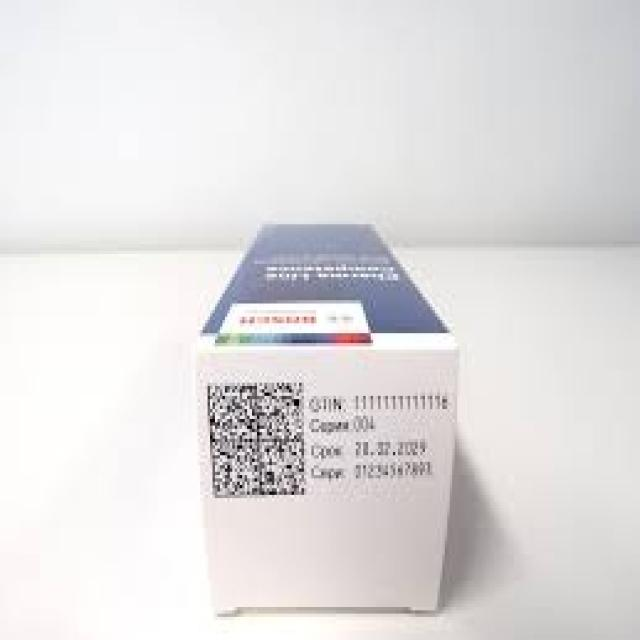datamatrix: (200, 373, 309, 505)
